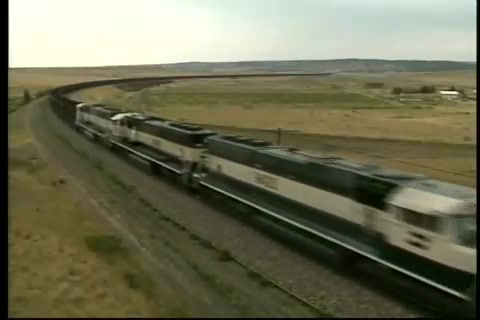train: (76, 99, 478, 318)
